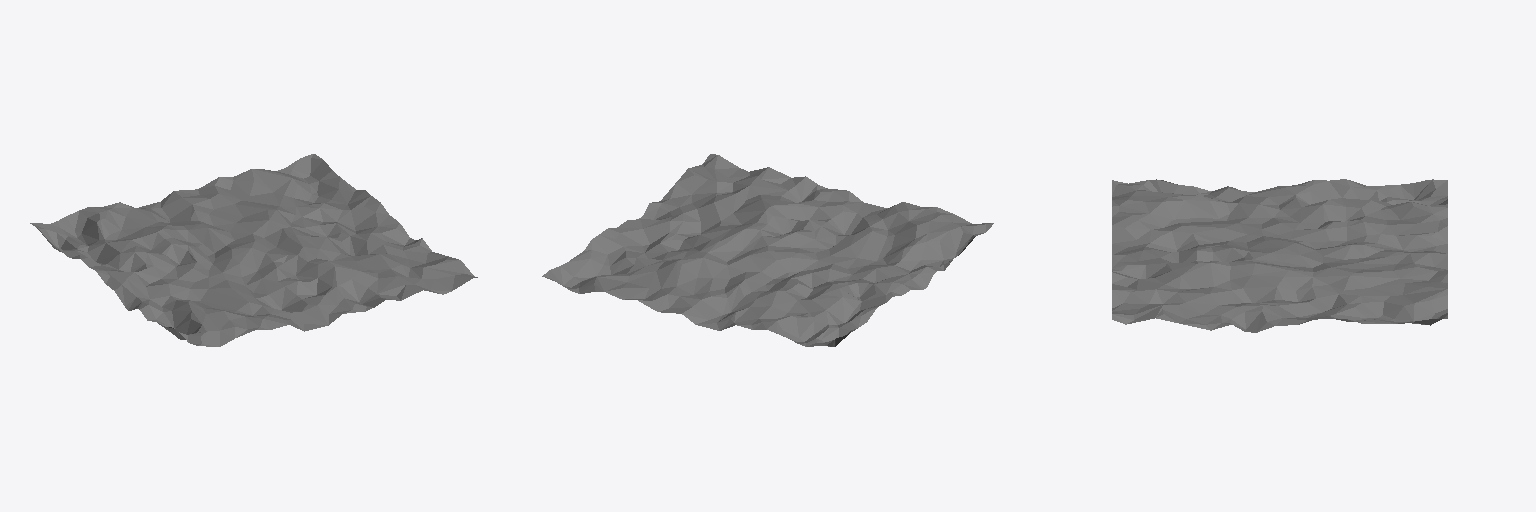
The model's file is ocean.obj.
The picture shows the model from 3 angles: view 1: azimuth 30°, elevation 25°; view 2: azimuth 150°, elevation 25°; view 3: azimuth 270°, elevation 25°; orthographic projection.
Visible parts, largest first — view 1: Plane01; view 2: Plane01; view 3: Plane01.
Part boxes in pixels (x1,y1,x2,y2): Plane01: (30,154,477,346); Plane01: (542,154,993,346); Plane01: (1112,179,1447,332).
Size of the model in its own units: 117 by 8.83 by 119.